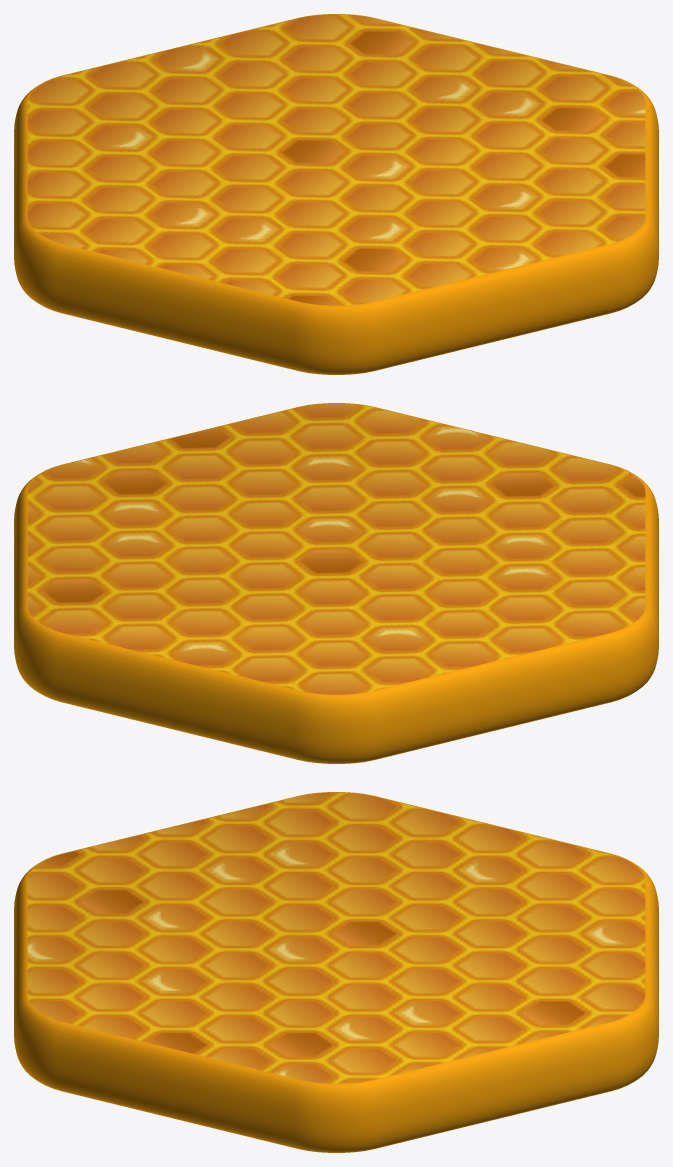
File: Honey comb.fbx
3 renders of one model, top to bottom at view 1: azimuth 30°, elevation 25°; view 2: azimuth 150°, elevation 25°; view 3: azimuth 270°, elevation 25°, orthographic.
Visible parts, largest first — view 1: Cylinder.051; view 2: Cylinder.051; view 3: Cylinder.051.
Part boxes in pixels (x1,y1,x2,y2): Cylinder.051: (14, 14, 658, 374); Cylinder.051: (14, 403, 658, 763); Cylinder.051: (14, 792, 658, 1152).
Bounding box in the file's own units: 36.04 × 3.82 × 32.47.
